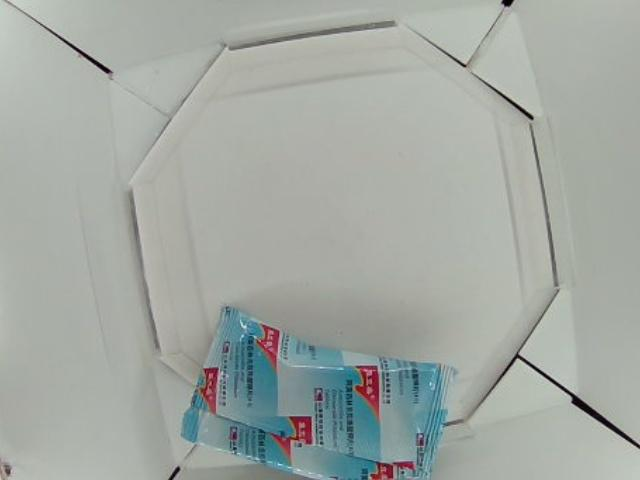Medicine: (183, 298, 458, 480)
